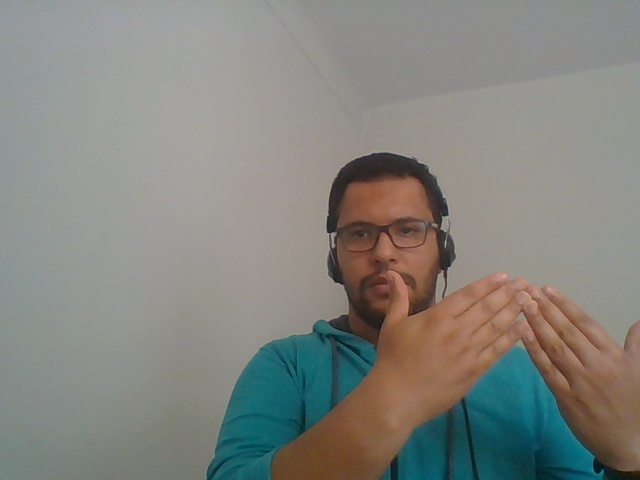thanks: (310, 254, 640, 480)
